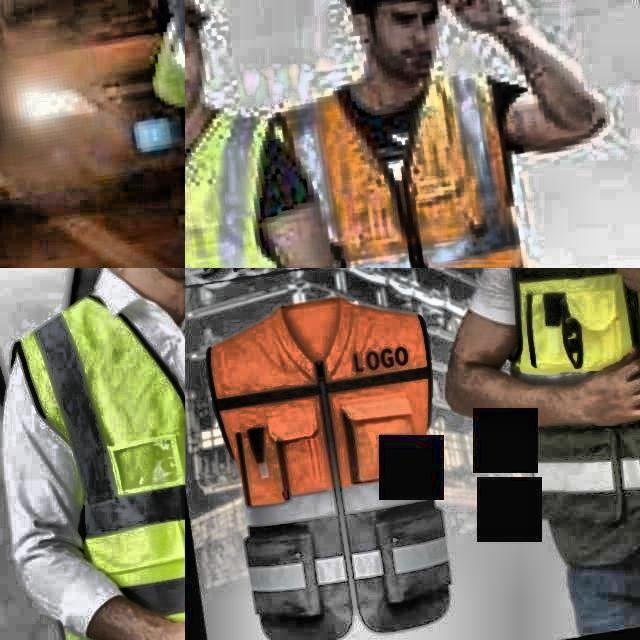safety_jacket: (197, 292, 450, 552), (18, 279, 185, 640), (288, 92, 533, 268), (490, 268, 640, 414), (185, 117, 289, 268)
